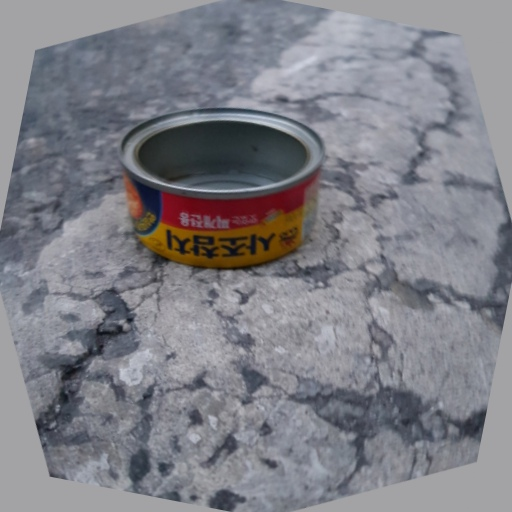Metal_1: (121, 107, 325, 266)
